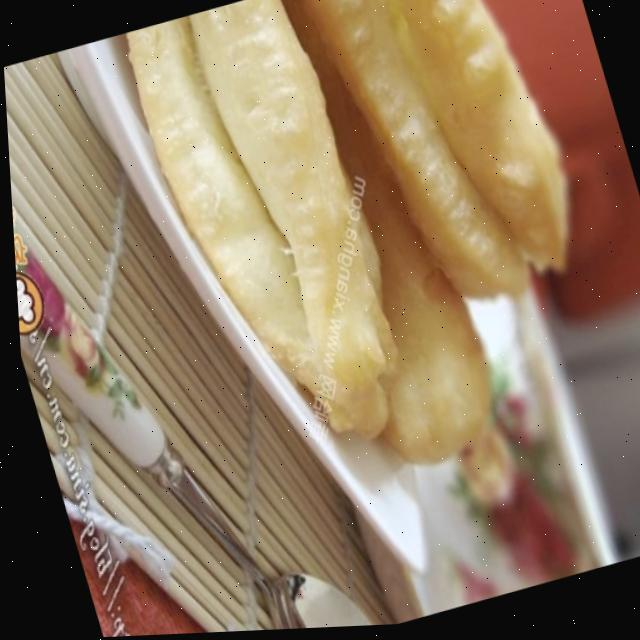炸货点心: (116, 0, 636, 530)
